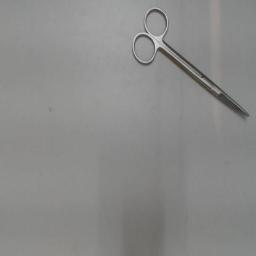Curved Mayo Scissors: (127, 2, 253, 122)
